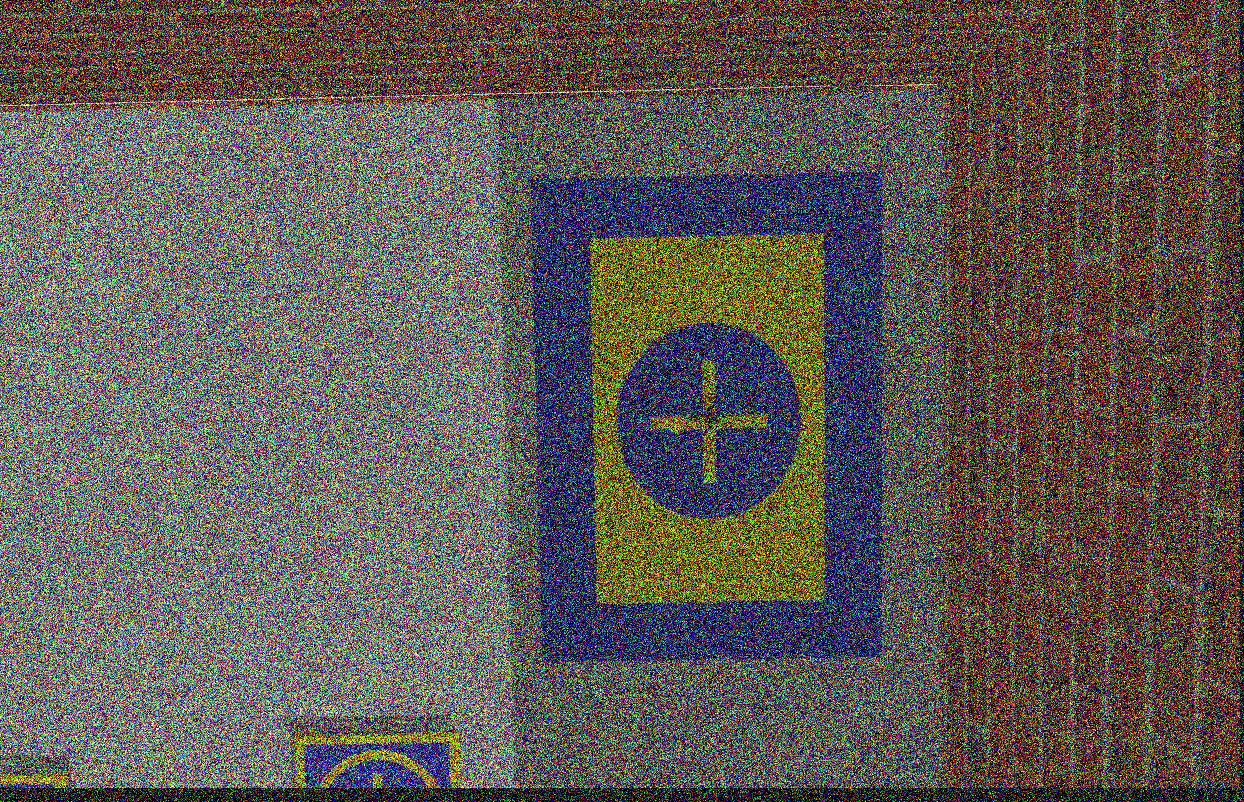large_base: (532, 171, 887, 667)
small_base: (292, 731, 463, 791)
